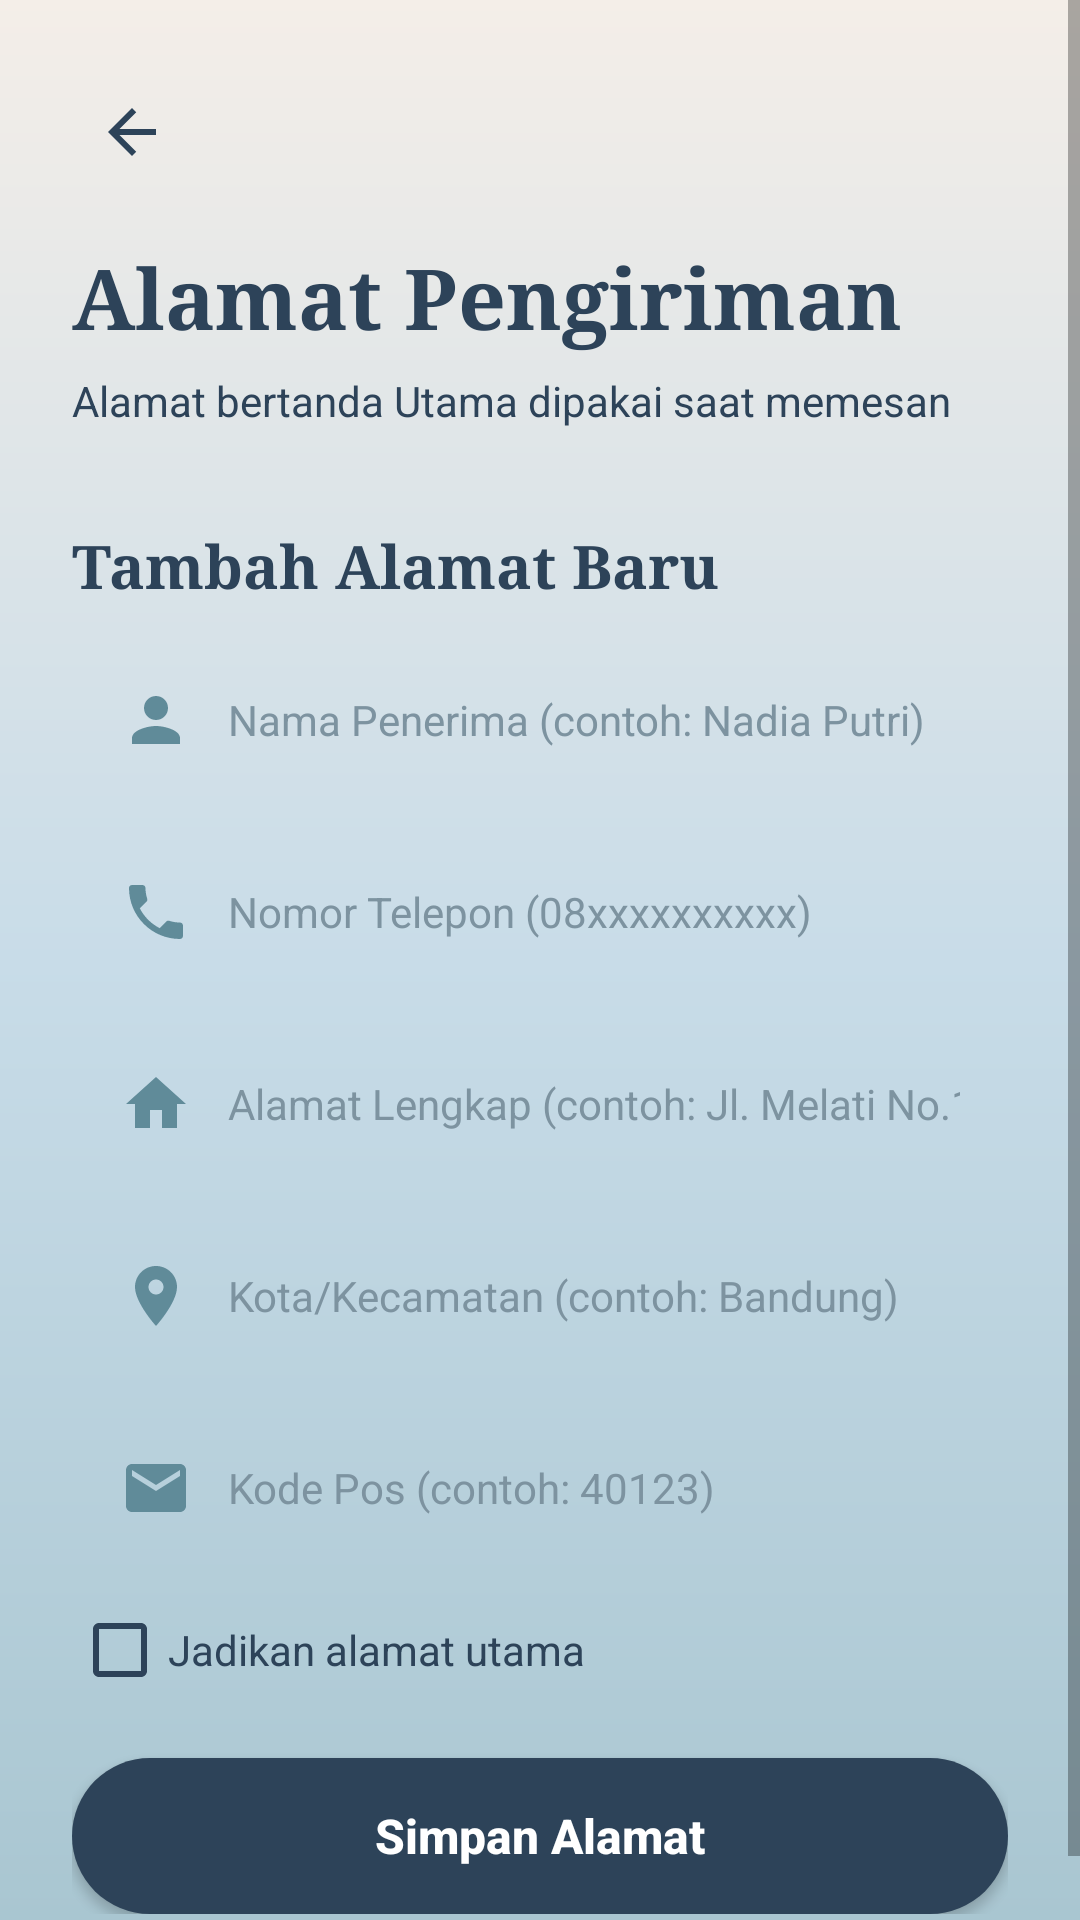

Where icons sit on this 1080px×1920px app screen, as bbox=[x1, y1, x2, y2]:
Kembali: bbox=[108, 108, 156, 156]
